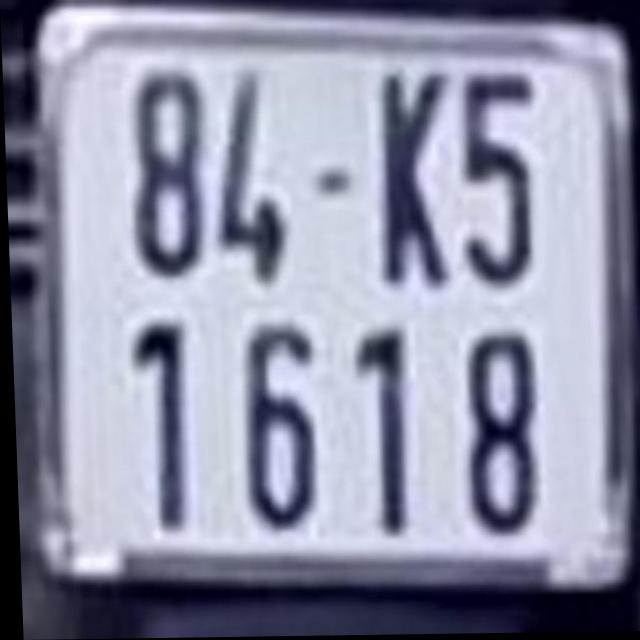1: (127, 316, 194, 531), (353, 324, 417, 542)
4: (211, 67, 296, 289)
5: (458, 71, 539, 296)
6: (238, 319, 319, 533)
8: (463, 332, 541, 532), (134, 67, 202, 275)
K: (377, 69, 453, 292)
